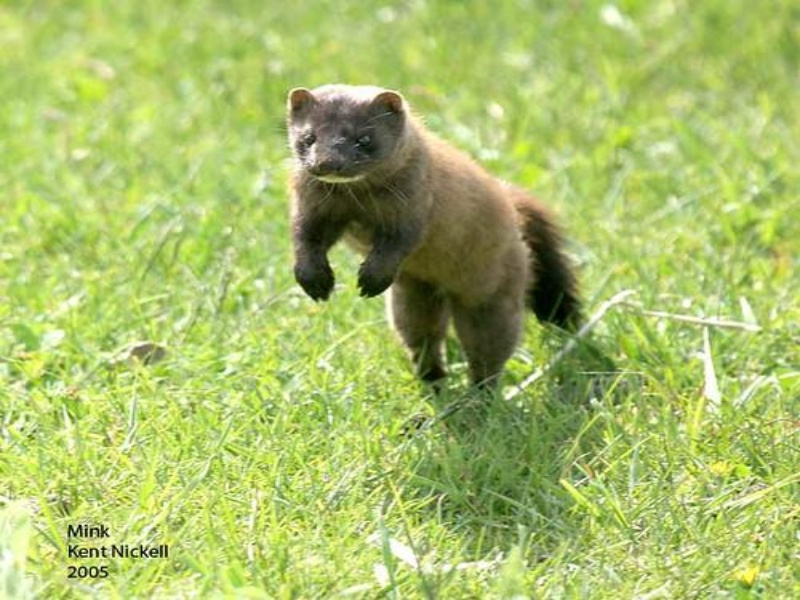minkish: (284, 83, 590, 397)
